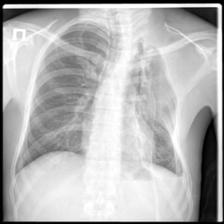tuberculosis: (9, 17, 190, 180)
